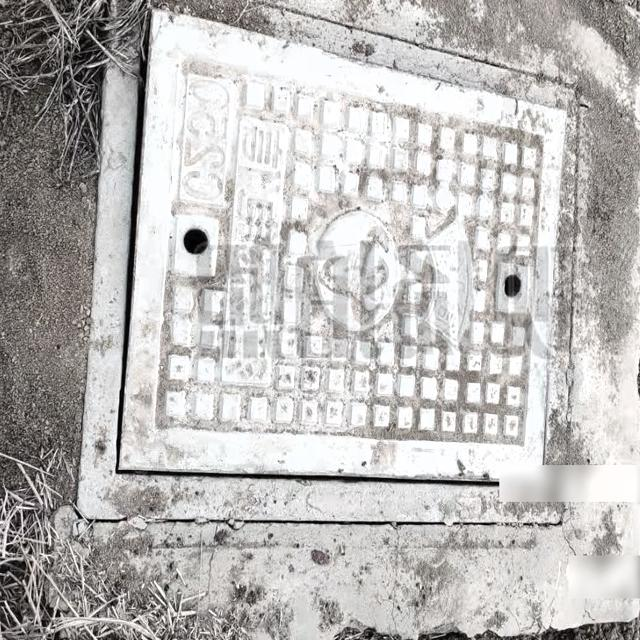uncovered: (41, 0, 587, 513)
